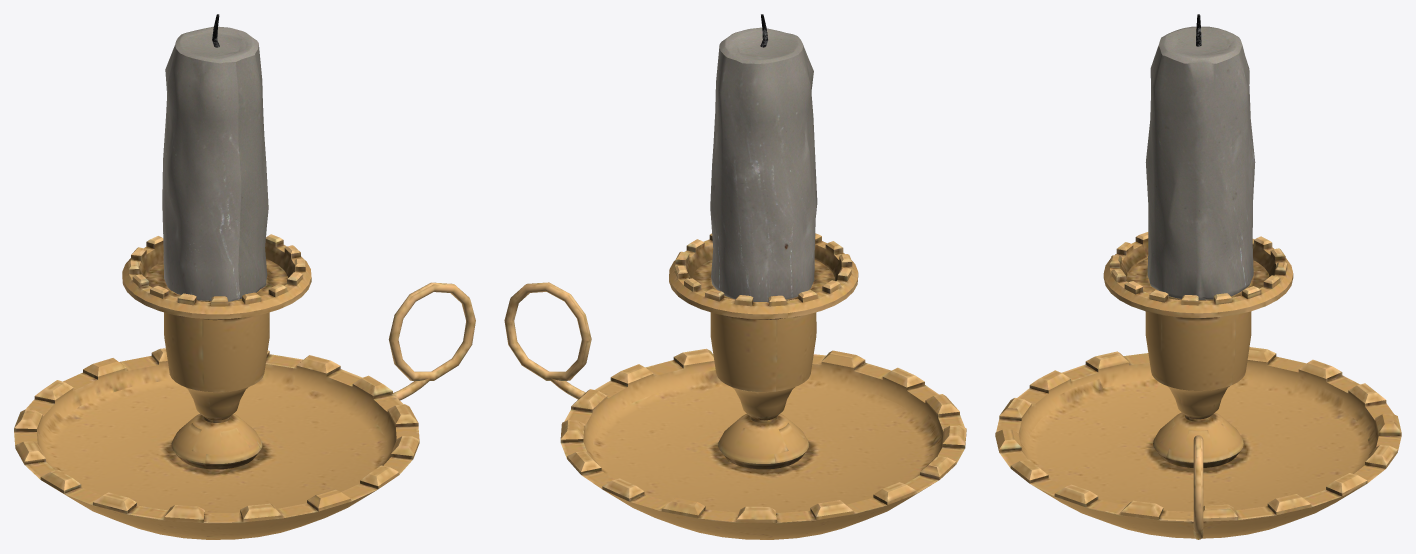
The model's file is obj_candlestick_61a47d.glb.
The picture shows the model from 3 angles, left to right: view 1: azimuth 30°, elevation 25°; view 2: azimuth 150°, elevation 25°; view 3: azimuth 270°, elevation 25°; orthographic projection.
Parts seen in each view (by area): view 1: obj_candlestick_61a47d; view 2: obj_candlestick_61a47d; view 3: obj_candlestick_61a47d.
Part boxes in pixels (<box>): obj_candlestick_61a47d: <box>14,14,475,539</box>; obj_candlestick_61a47d: <box>504,14,966,539</box>; obj_candlestick_61a47d: <box>995,14,1401,539</box>.
Size of the model in its own units: 0.142 by 0.15 by 0.1151.
Materials: 1 (1 with a texture image).
